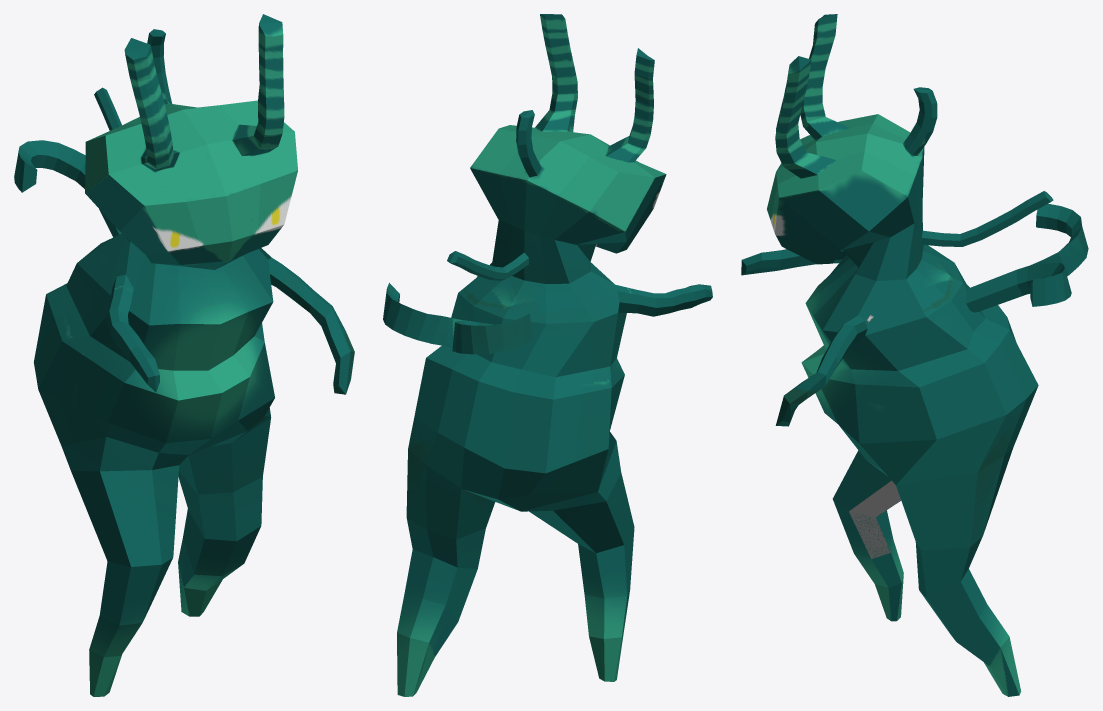
File: monstruo1_caminar_14.obj
3 views of the same model, side by side, from view 1: azimuth 30°, elevation 25°; view 2: azimuth 150°, elevation 25°; view 3: azimuth 270°, elevation 25° (orthographic). The views are drawn at different scales.
Visible parts, largest first — view 1: Monstruo_basico; view 2: Monstruo_basico; view 3: Monstruo_basico.
Part boxes in pixels (x1,y1,x2,y2): Monstruo_basico: [14, 14, 354, 696]; Monstruo_basico: [383, 14, 712, 696]; Monstruo_basico: [741, 14, 1088, 696].
Bounding box in the file's own units: 0.3634 × 1.03 × 0.5268.
